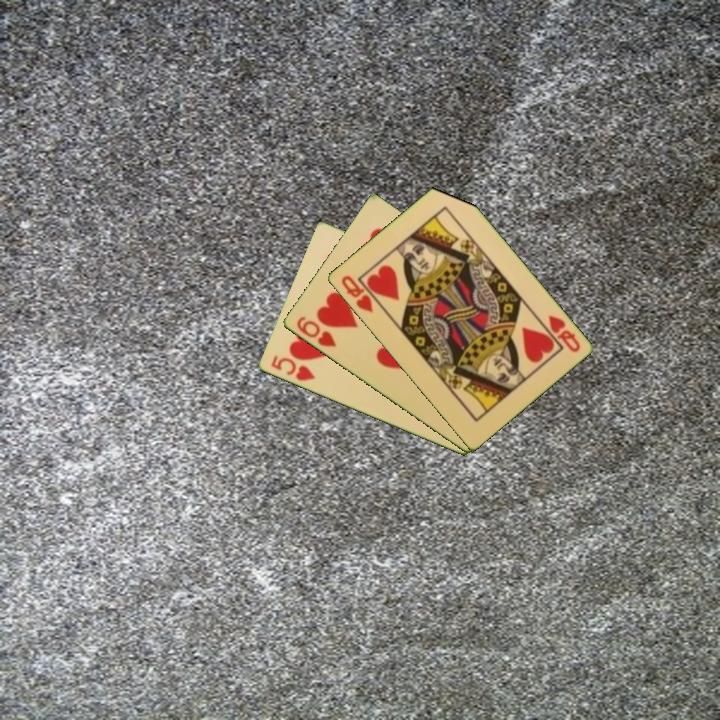5h: (267, 352, 318, 384)
6h: (292, 313, 339, 350)
Qh: (337, 272, 383, 316), (544, 312, 583, 355)
